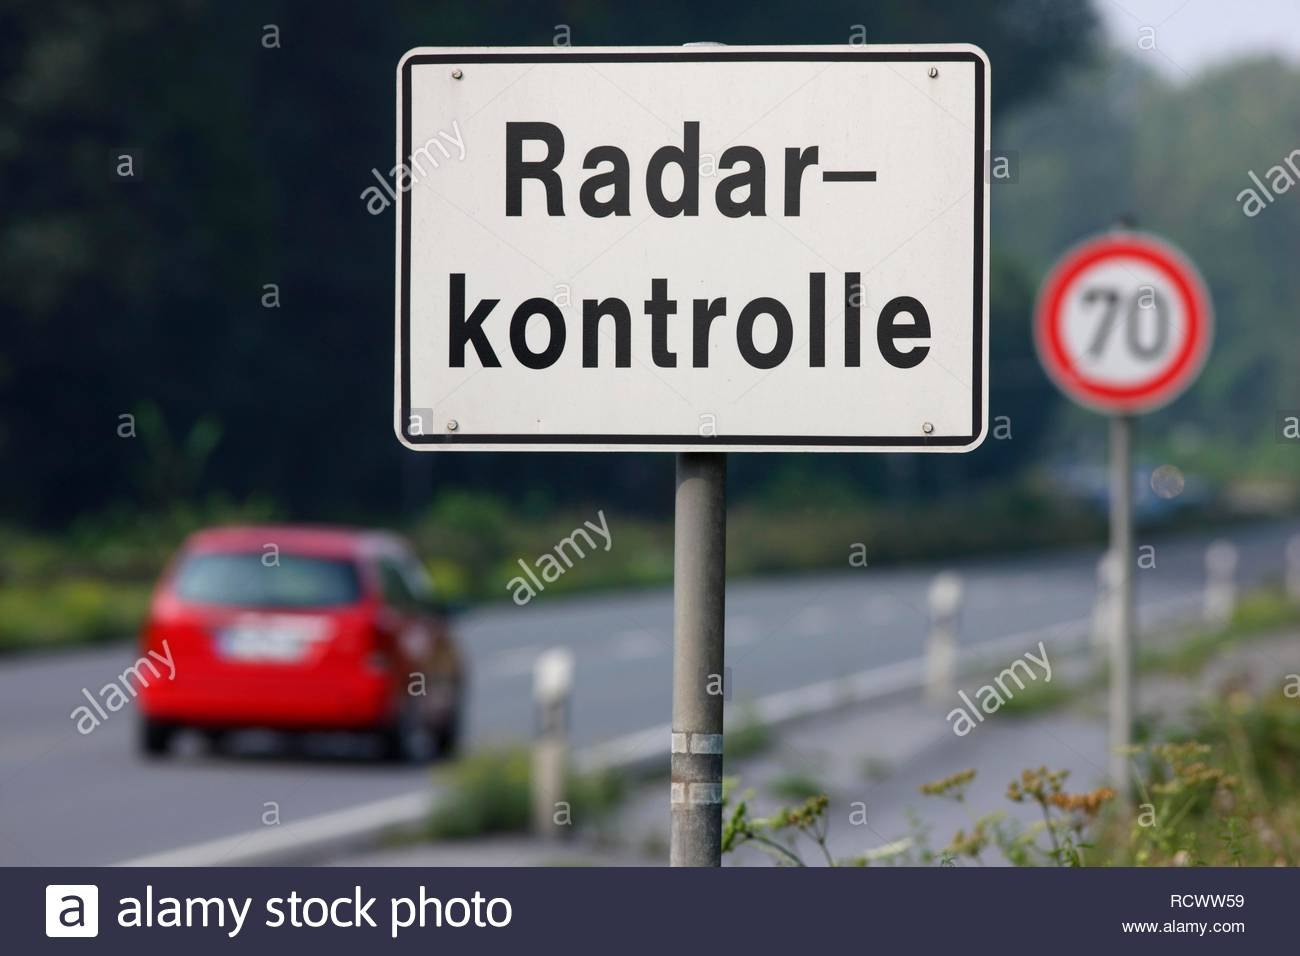speed_limit_70: (1034, 229, 1213, 415)
